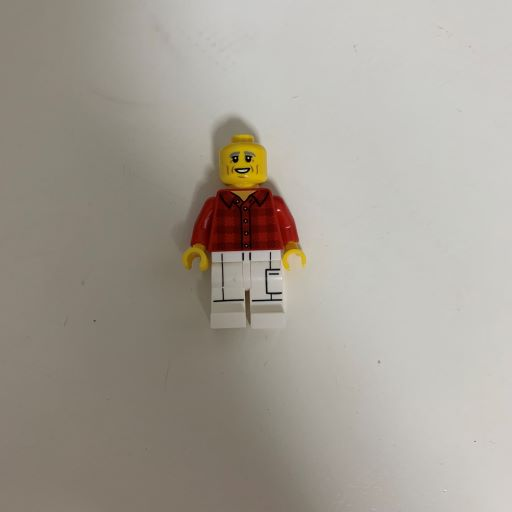human: (180, 124, 315, 338)
